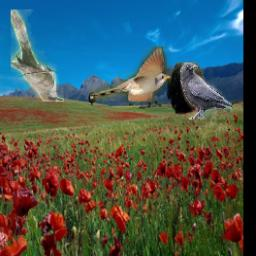Crow: (179, 62, 231, 120)
Cuckoo: (10, 11, 63, 103), (90, 47, 172, 102)
